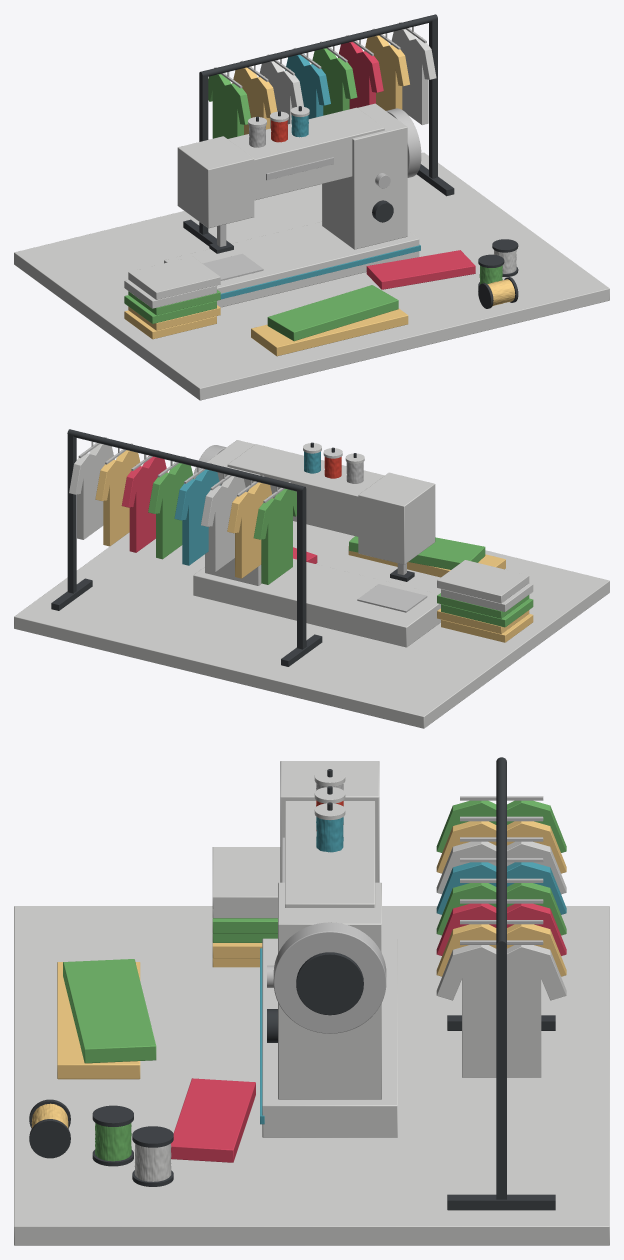
Rendered from manufacturing.glb.
The picture shows the model from 3 angles, top to bottom: view 1: azimuth 30°, elevation 25°; view 2: azimuth 150°, elevation 25°; view 3: azimuth 270°, elevation 25°; orthographic projection. The views are drawn at different scales.
Parts seen in each view (by area): view 1: plaza.001, m_pillar, m_bed, m_arm, m_head, bolt_b, bolt_c, bolt_a, fold5, shirt7, shirt0, shirt6 (+18 smaller); view 2: plaza.001, m_bed, m_head, m_arm, shirt0, fold5, shirt5, shirt2, shirt3, shirt6, shirt1, shirt4 (+15 smaller); view 3: plaza.001, shirt7, m_pillar, m_bed, m_arm, bolt_b, m_wheel, bolt_c, fold5, m_head, m_wheel_hub, bolt_a (+19 smaller).
Boxes of the visible parts, <box> form: plaza.001: <box>14,152,609,400</box>; m_pillar: <box>322,103,407,249</box>; m_bed: <box>164,221,419,307</box>; m_arm: <box>228,107,384,200</box>; m_head: <box>177,136,254,228</box>; bolt_b: <box>267,285,398,341</box>; bolt_c: <box>366,250,475,289</box>; bolt_a: <box>251,308,408,356</box>; fold5: <box>128,256,220,299</box>; shirt7: <box>390,29,436,124</box>; shirt0: <box>208,73,250,138</box>; shirt6: <box>364,35,409,110</box>; plaza.001: <box>14,521,609,728</box>; m_bed: <box>193,558,440,647</box>; m_head: <box>358,472,435,564</box>; m_arm: <box>227,444,384,536</box>; shirt0: <box>253,488,296,584</box>; fold5: <box>437,560,529,603</box>; shirt5: <box>121,456,167,552</box>; shirt2: <box>201,475,246,572</box>; shirt3: <box>174,469,220,565</box>; shirt6: <box>95,450,141,546</box>; shirt1: <box>227,482,272,578</box>; shirt4: <box>148,462,193,559</box>; plaza.001: <box>14,906,609,1245</box>; shirt7: <box>436,945,566,1077</box>; m_pillar: <box>278,882,381,1099</box>; m_bed: <box>262,938,397,1137</box>; m_arm: <box>285,801,375,907</box>; bolt_b: <box>63,959,156,1063</box>; m_wheel: <box>273,922,386,1033</box>; bolt_c: <box>171,1078,255,1162</box>; fold5: <box>212,847,280,908</box>; m_head: <box>280,761,379,882</box>; m_wheel_hub: <box>296,952,363,1015</box>; bolt_a: <box>57,962,140,1079</box>.
Bounding box in the file's own units: 4.2 × 1.76 × 3.3.
